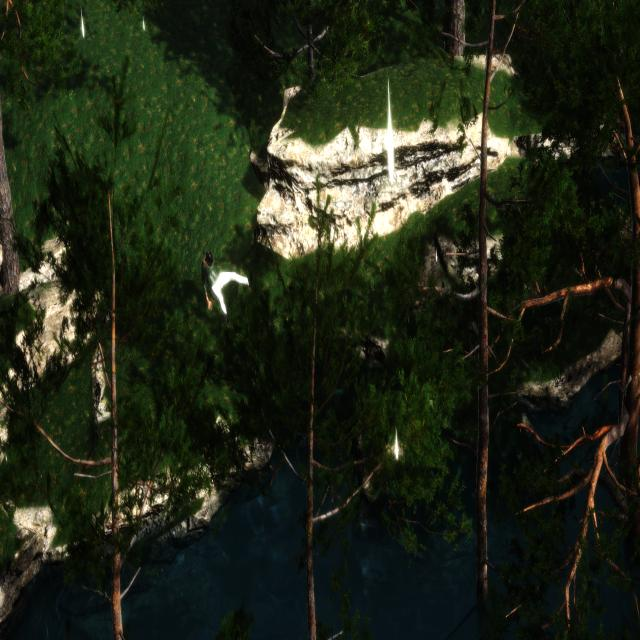Human: (200, 250, 257, 334)
